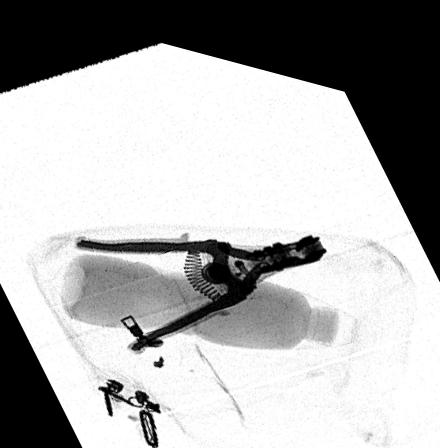Pliers: (71, 218, 328, 344)
